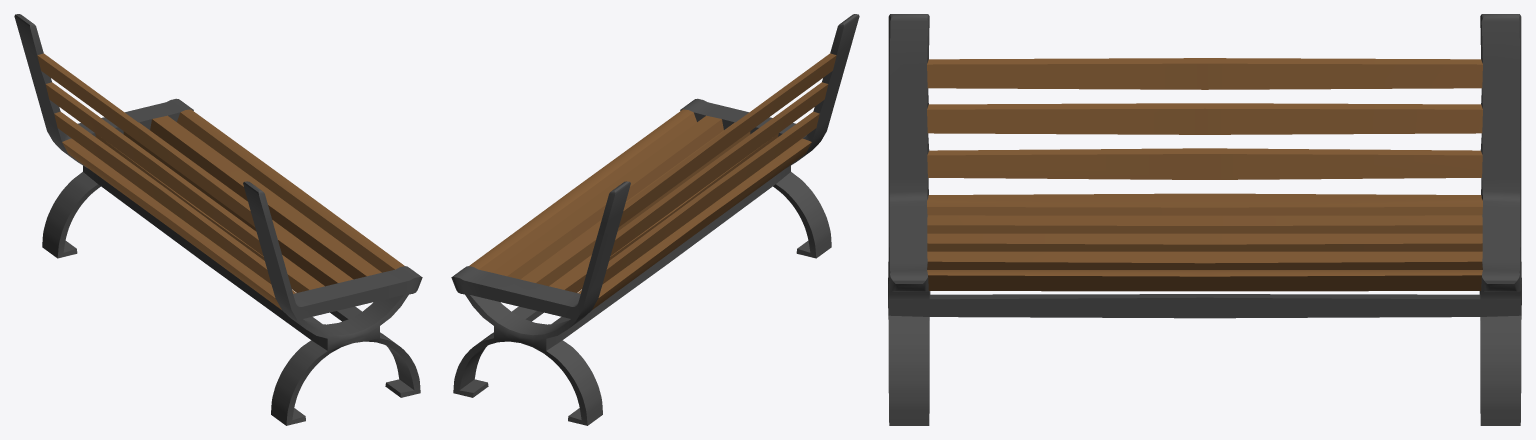
Rendered from bench export 1.fbx.
The picture shows the model from 3 angles, left to right: view 1: azimuth 30°, elevation 25°; view 2: azimuth 150°, elevation 25°; view 3: azimuth 270°, elevation 25°; orthographic projection. The views are drawn at different scales.
Visible parts, largest first — view 1: Cylinder.001; view 2: Cylinder.001; view 3: Cylinder.001.
Boxes of the visible parts, x1=… form: Cylinder.001: x1=14, y1=14, x2=422, y2=425; Cylinder.001: x1=451, y1=14, x2=859, y2=425; Cylinder.001: x1=888, y1=14, x2=1521, y2=425.
Bounding box in the file's own units: 251 × 348 × 643.
